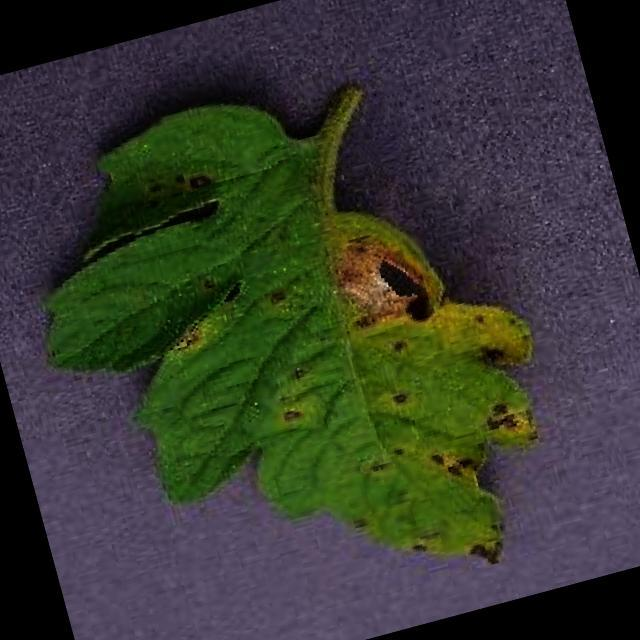Tomato Septoria spot leaf: (0, 40, 586, 640)
